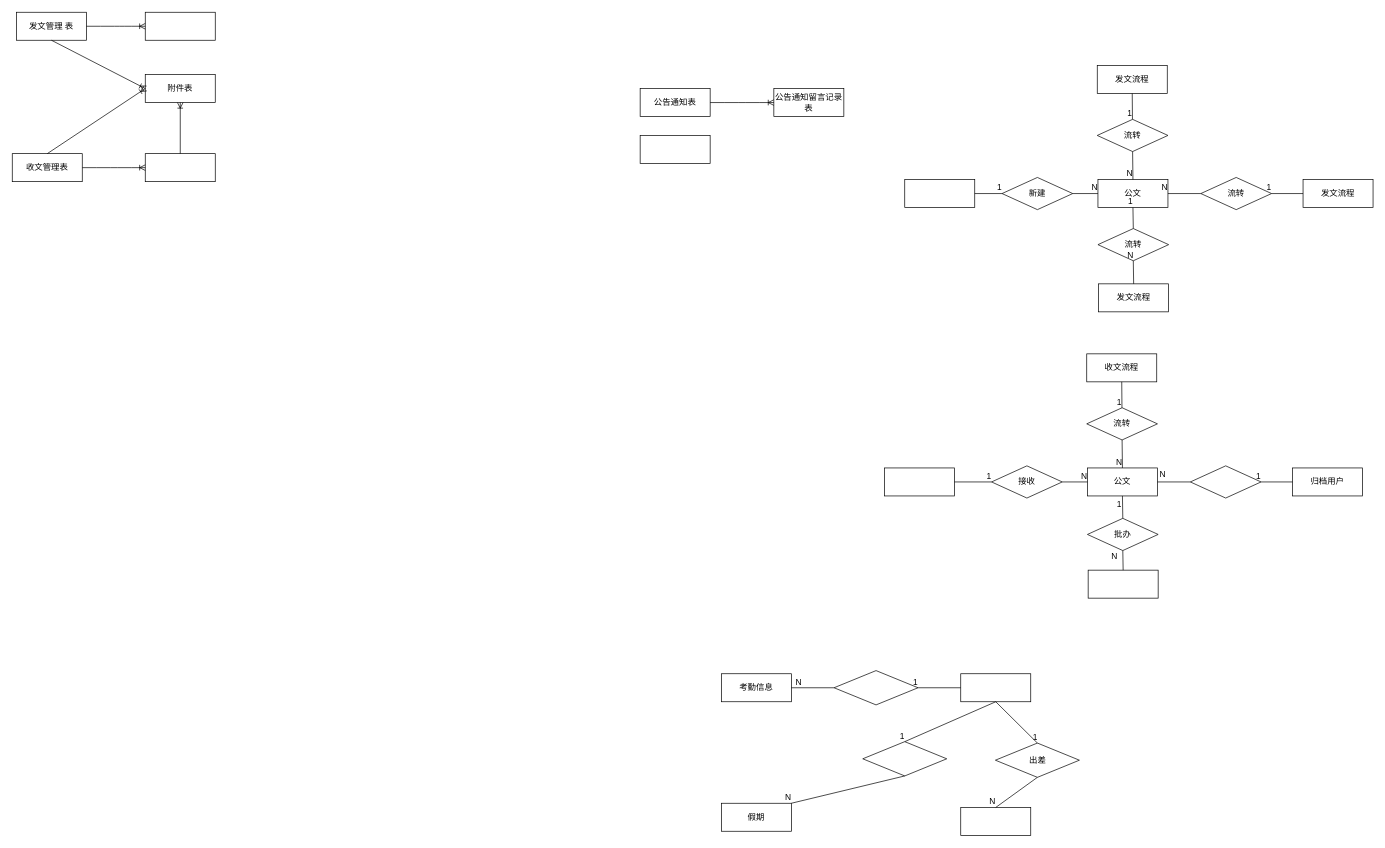
Some shapes in this 1385 by 848 pixel diagram are drawn without their labels. Here are the shapes that lost their labels. From the top down, the centre of each, then its label:
[180,26]: 发文件工作人员关联表
[180,167]: 收文工作人员关联表
[674,149]: 短信表
[939,193]: 拟文用户
[919,481]: 收文用户
[1225,481]: 归档
[1122,583]: 批办用户
[875,687]: 签到
[995,687]: 员工
[904,758]: 休假
[995,821]: 出差记录表
